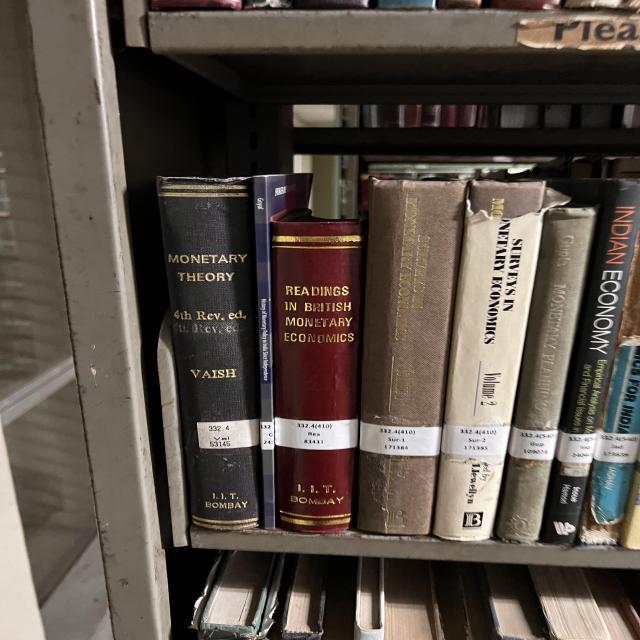Book: (435, 185, 558, 540), (358, 180, 467, 535), (540, 180, 640, 544), (157, 178, 260, 529), (497, 206, 597, 542), (272, 210, 363, 532), (253, 174, 312, 530), (580, 239, 640, 541)
Label: (360, 422, 442, 456), (275, 418, 358, 450), (442, 424, 510, 456), (197, 419, 260, 449), (508, 428, 558, 461), (593, 431, 640, 464), (555, 431, 597, 464), (260, 421, 275, 450)
